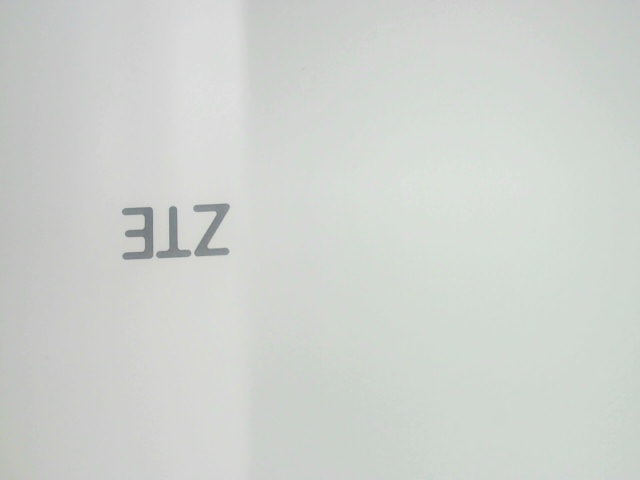AN_ZTE: (114, 202, 239, 263)
